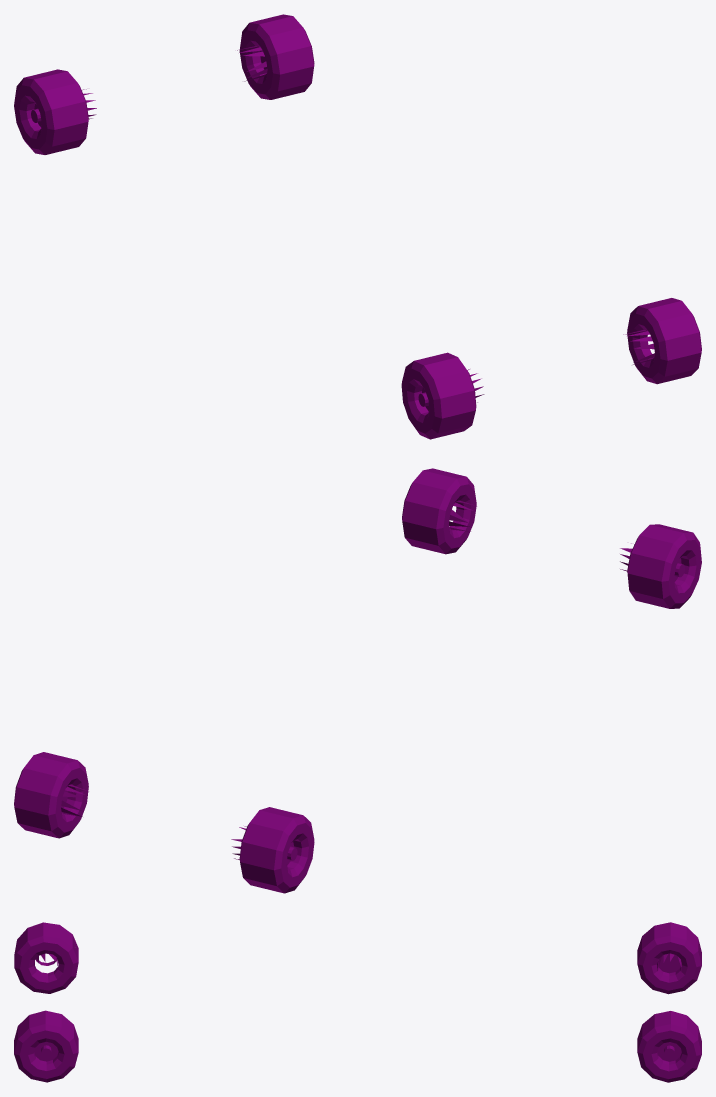
Rendered from purple.glb.
3 views of the same model, one above another, from view 1: azimuth 30°, elevation 25°; view 2: azimuth 150°, elevation 25°; view 3: azimuth 270°, elevation 25° (orthographic). The views are drawn at different scales.
Parts seen in each view (by area): view 1: WheelFR, WheelRR, WheelFL, WheelRL; view 2: WheelFR, WheelRR, WheelFL, WheelRL; view 3: WheelRL, WheelFL, WheelFR, WheelRR.
Boxes of the visible parts, box(x1,y1,x2,y2) form: WheelFR: box(14, 69, 96, 154); WheelRR: box(401, 352, 484, 439); WheelFL: box(237, 14, 314, 99); WheelRL: box(623, 298, 701, 384); WheelFR: box(231, 807, 314, 893); WheelRR: box(620, 524, 701, 608); WheelFL: box(14, 752, 88, 838); WheelRL: box(402, 468, 476, 554); WheelRL: box(14, 1010, 78, 1082); WheelFL: box(637, 1011, 701, 1082); WheelFR: box(637, 922, 701, 994); WheelRR: box(14, 922, 78, 993).
Size of the model in its own units: 3.29 by 0.8599 by 9.13.
1 material, 1 textured.
